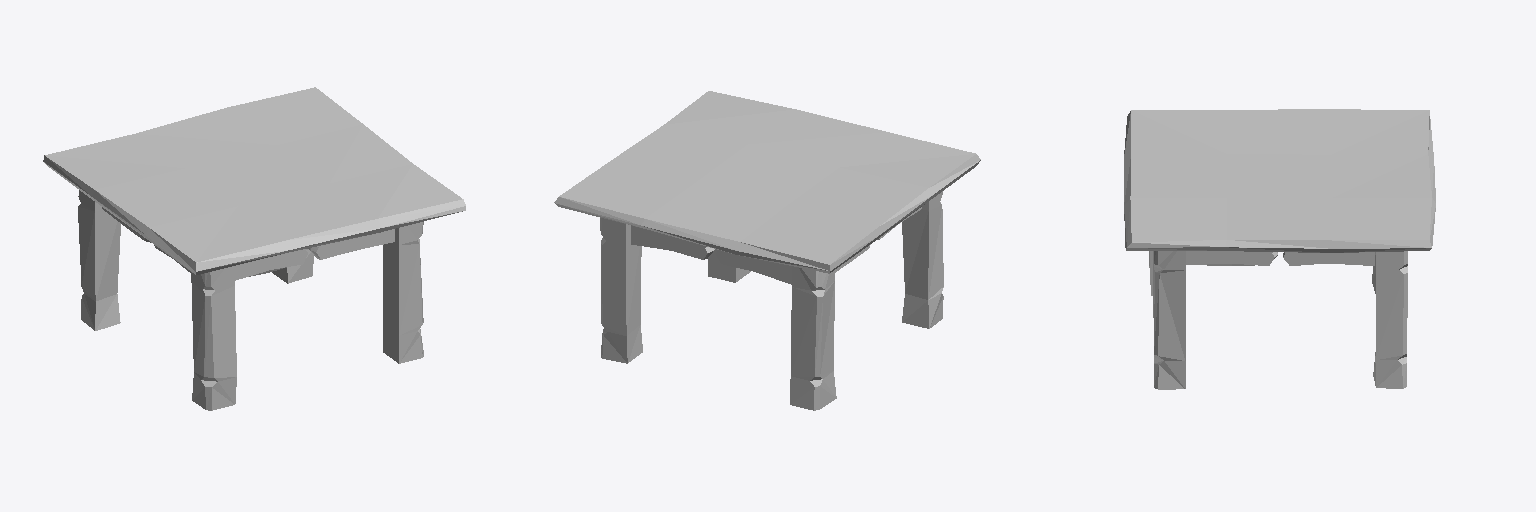
File: table.obj
3 renders of one model, left to right at view 1: azimuth 30°, elevation 25°; view 2: azimuth 150°, elevation 25°; view 3: azimuth 270°, elevation 25°, orthographic.
Visible parts, largest first — view 1: Box17; view 2: Box17; view 3: Box17.
Boxes of the visible parts, box(x1,y1,x2,y2) form: Box17: box(43, 87, 465, 410); Box17: box(554, 91, 980, 410); Box17: box(1124, 109, 1435, 389).
Bounding box in the file's own units: 5.02 × 2.83 × 4.92.